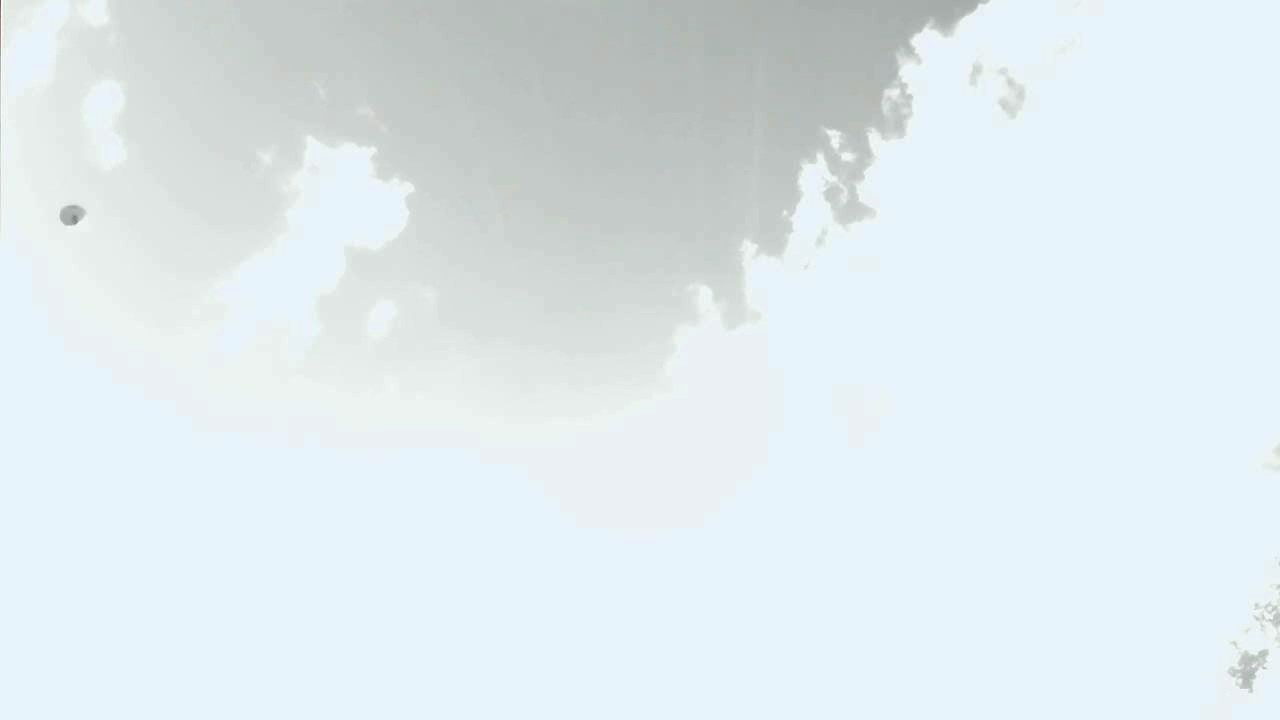Football-Spotter: (59, 204, 86, 225)
